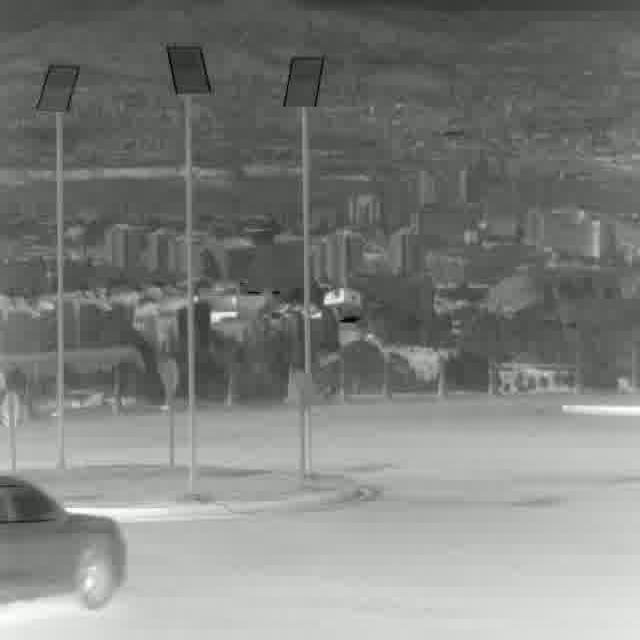Car: (0, 478, 129, 610)
